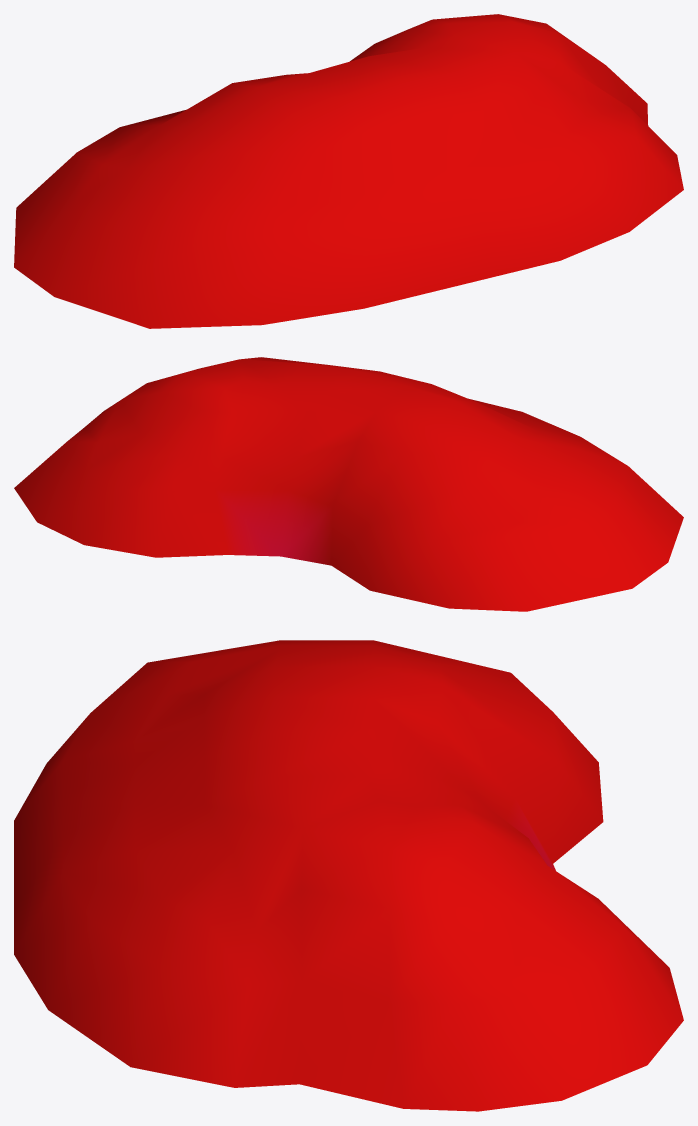
Rendered from FSCPileWall.fbx.
3 views of the same model, one above another, from view 1: azimuth 30°, elevation 25°; view 2: azimuth 150°, elevation 25°; view 3: azimuth 270°, elevation 25° (orthographic). The views are drawn at different scales.
Parts seen in each view (by area): view 1: Pile Rock; view 2: Pile Rock; view 3: Pile Rock.
Boxes of the visible parts, x1,y1,x2,y2 form: Pile Rock: (14, 14, 683, 328); Pile Rock: (14, 357, 683, 611); Pile Rock: (14, 640, 683, 1111).
Bounding box in the file's own units: 4595 × 895 × 2982.
